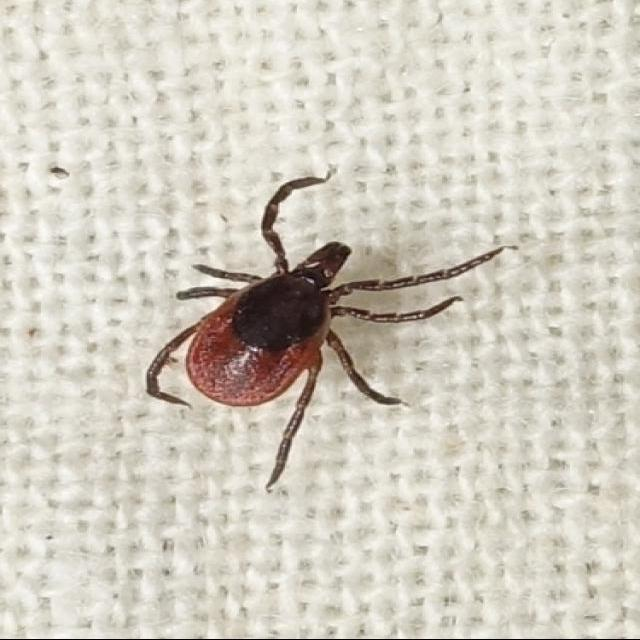Ixodes Ricinus-F: (145, 178, 503, 489)
